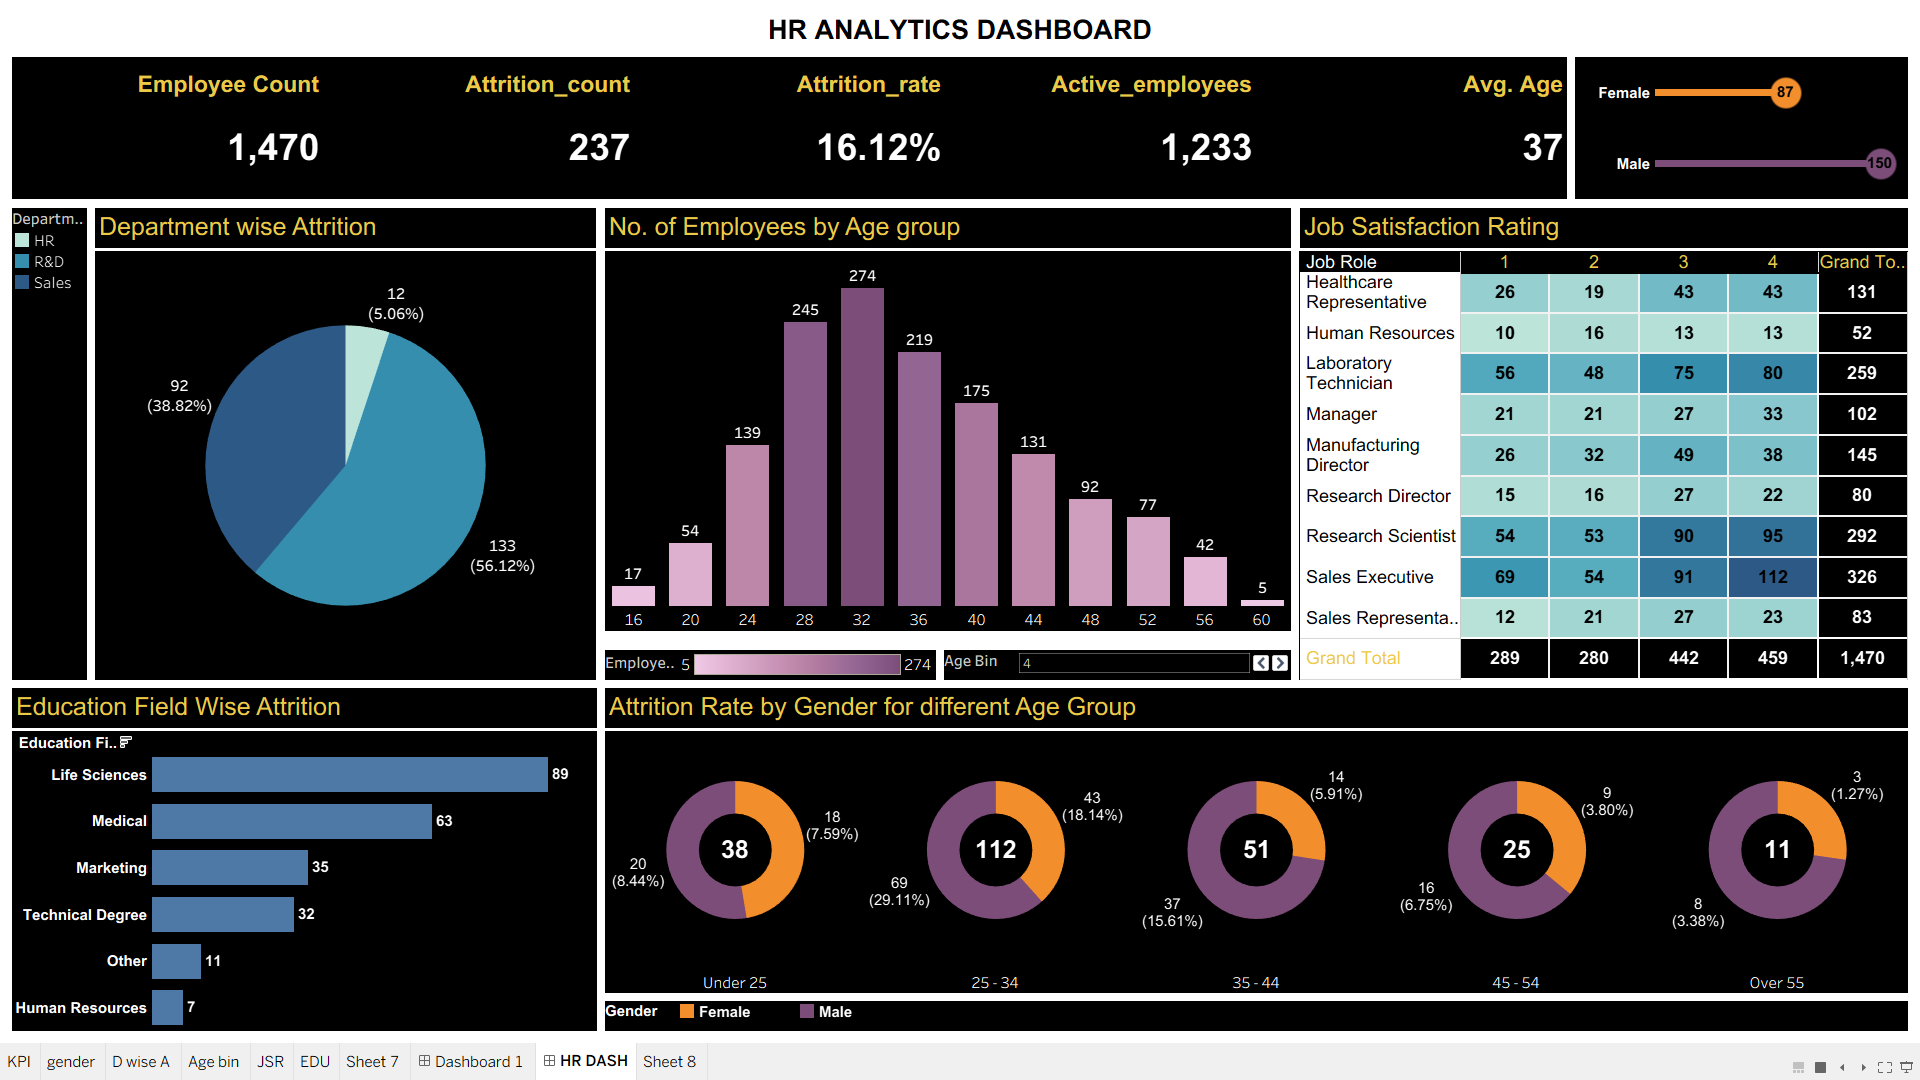

What the dashboard file says about the page in this screenshot:
{"tool":"tableau","page":{"name":"HR DASH","canvas":[1000,1000],"units":"permille","ordinal":1},"visuals":[{"type":"text","box":[4.8,9.4,990.3,43.5]},{"type":"worksheet","title":"KPI","mark":"Automatic","box":[4.8,52.9,813.1,143.7]},{"type":"worksheet","title":"gender","mark":"Automatic","rows":["Gender"],"cols":["Calculation_0685045437038592","Calculation_0685045437038592"],"box":[817.9,52.9,177.3,143.7]},{"type":"legend","title":"D wise A","param":"[federated.1g7toj61pgsbhp18iot921l4mx06].[none:Department:nk]","box":[4.8,196.6,43.4,458.2]},{"type":"worksheet","title":"D wise A","mark":"Pie","box":[48.2,196.6,264.9,458.2]},{"type":"worksheet","title":"Age bin","mark":"Automatic","rows":["Employee Count"],"cols":["Age (bin)"],"box":[313.2,196.6,360.9,422.3]},{"type":"worksheet","title":"JSR","mark":"Square","rows":["Job Role"],"cols":["Job Satisfaction"],"box":[674.1,196.6,321.1,458.2]},{"type":"legend","title":"Age bin","param":"[federated.1g7toj61pgsbhp18iot921l4mx06].[sum:Employee Count:qk]","box":[313.2,618.9,176.2,35.9]},{"type":"parameter","param":"[Parameters].[Parameter 1]","box":[489.4,618.9,184.7,35.9]},{"type":"worksheet","title":"EDU","mark":"Bar","rows":["Education Field"],"cols":["Calculation_0685045437038592"],"box":[4.8,654.8,308.3,335.8]},{"type":"worksheet","title":"Sheet 7","mark":"Pie","rows":["Calculation_0449482822197261","Calculation_0449482822213647"],"cols":["CF_age band"],"box":[313.2,654.8,682,299.8]},{"type":"legend","title":"Sheet 7","param":"[federated.1g7toj61pgsbhp18iot921l4mx06].[none:Gender:nk]","box":[313.2,954.6,682,36]}]}

Visuals, with their boxes on the dashboard's canvas, which has no fixed pixel size, in thousandths of its width and height (x1, y1, x2, y2). These are canvas units, not pixel positions in the 1920x1080 screenshot, which may show the page scaled, cropped or inside an application window:
text: rect(5, 9, 995, 53)
"KPI" worksheet: rect(5, 53, 818, 197)
"gender" worksheet: rect(818, 53, 995, 197)
"D wise A" legend: rect(5, 197, 48, 655)
"D wise A" worksheet (Pie marks): rect(48, 197, 313, 655)
"Age bin" worksheet: rect(313, 197, 674, 619)
"JSR" worksheet (Square marks): rect(674, 197, 995, 655)
"Age bin" legend: rect(313, 619, 489, 655)
parameter: rect(489, 619, 674, 655)
"EDU" worksheet (Bar marks): rect(5, 655, 313, 991)
"Sheet 7" worksheet (Pie marks): rect(313, 655, 995, 955)
"Sheet 7" legend: rect(313, 955, 995, 991)
